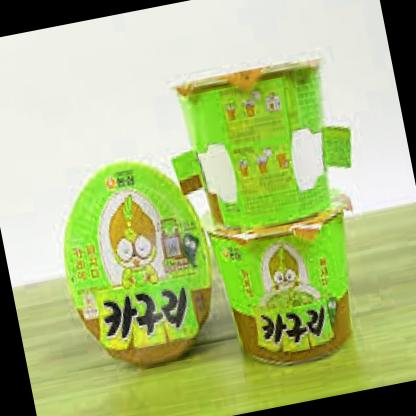Ramen: (49, 144, 228, 374), (195, 179, 382, 377), (172, 49, 352, 236)
